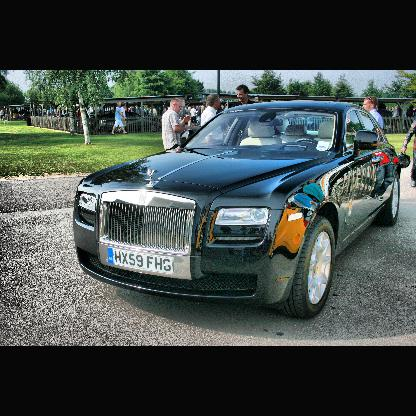Rolls-Royce Ghost Sedan 2012: (74, 99, 403, 311)
